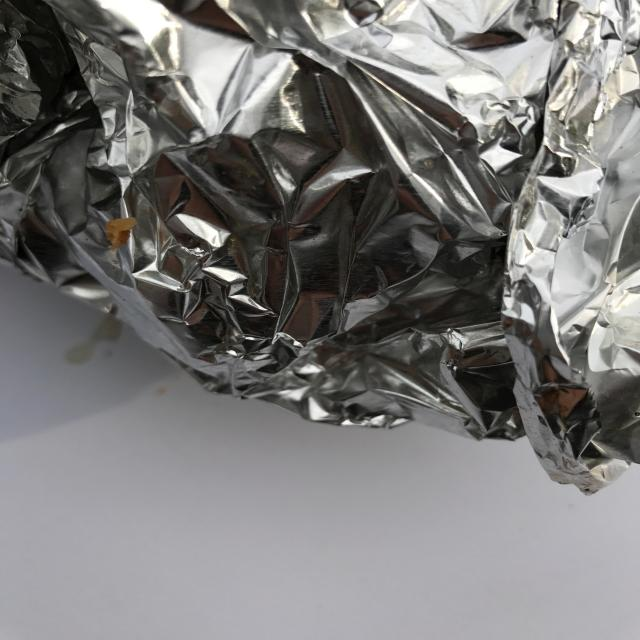Metal: (1, 2, 640, 521)
